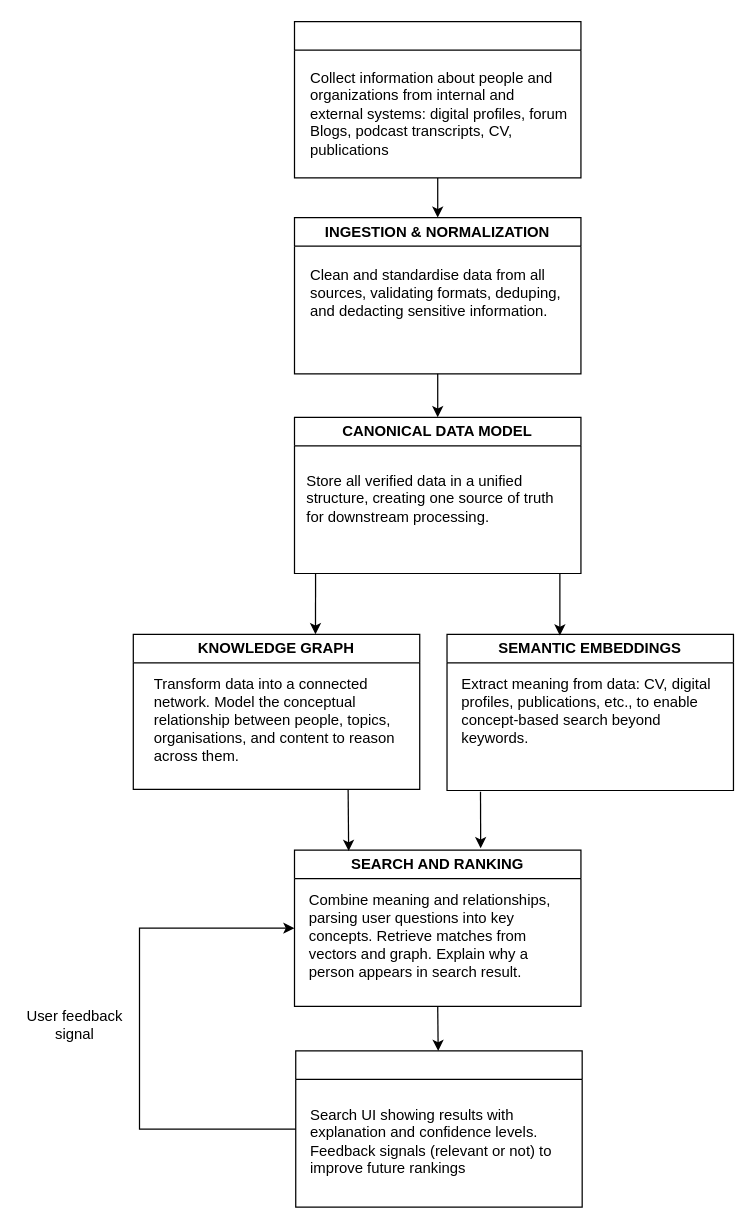
The diagram is 755 pixels wide and 1229 high, and some of its shapes have lost their labels. Here are the shapes that lost their labels. From the top down, the box of each, then its label:
(293, 20, 581, 178): DATA SOURCE
(294, 1050, 582, 1207): EXPERIENCE & API LAYER
